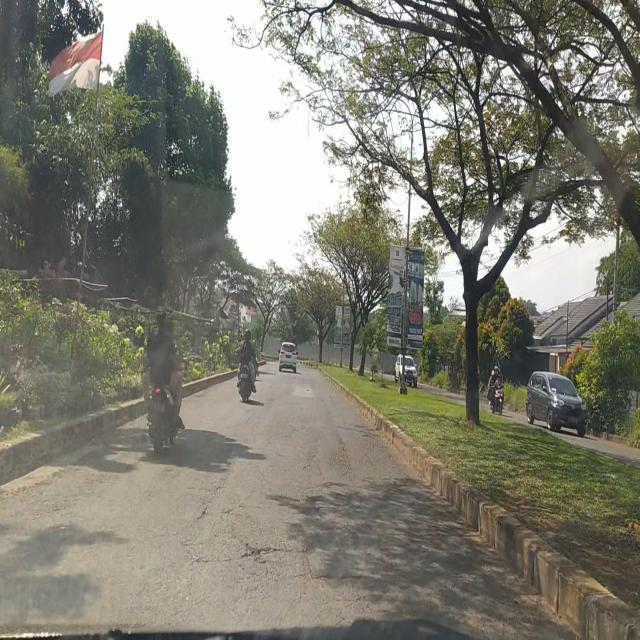Drain Hole: (192, 512, 302, 586)
